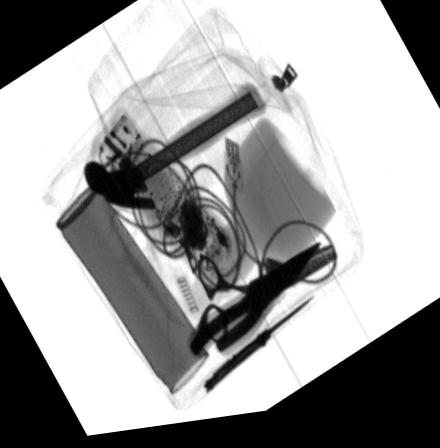Hammer: (81, 87, 268, 216)
Knife: (201, 303, 315, 402)
Pliers: (185, 250, 320, 363)
Scissors: (194, 251, 339, 351)
